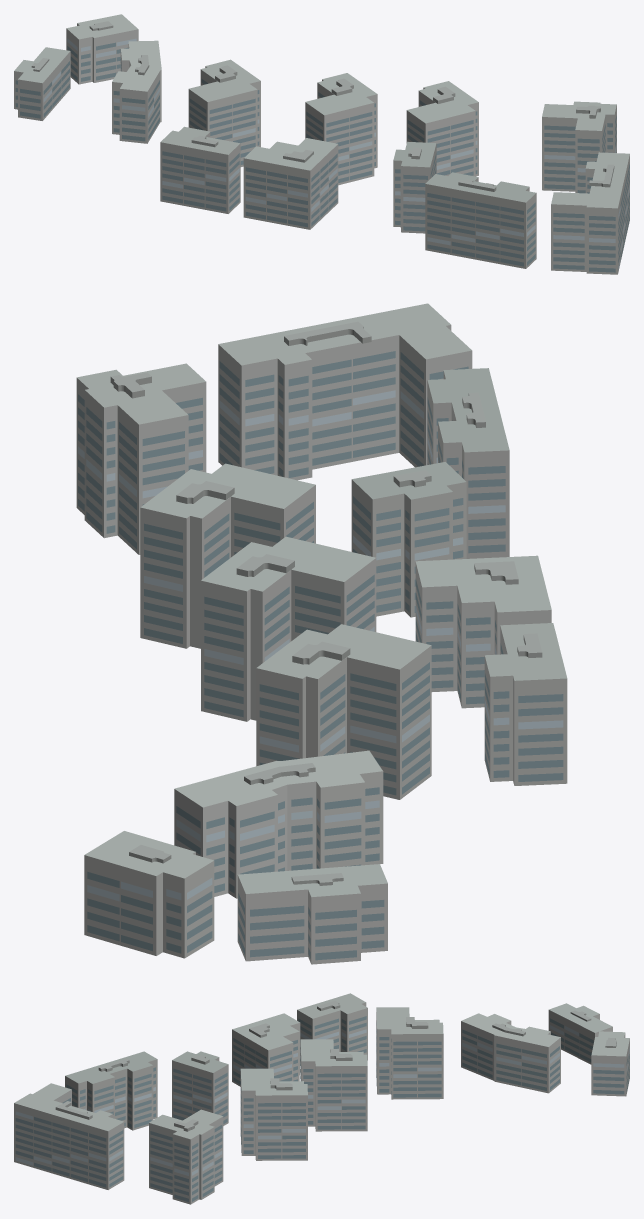
The model's file is apt-a10027912.glb.
3 views of the same model, one above another, from view 1: azimuth 30°, elevation 25°; view 2: azimuth 150°, elevation 25°; view 3: azimuth 270°, elevation 25° (orthographic). The views are drawn at different scales.
Parts seen in each view (by area): view 1: apt-a10027912; view 2: apt-a10027912; view 3: apt-a10027912.
Boxes of the visible parts, x1,y1,x2,y2 form: apt-a10027912: (14,14,629,274); apt-a10027912: (76,303,567,964); apt-a10027912: (14,993,629,1204).
Size of the model in its own units: 163 by 31 by 253.
